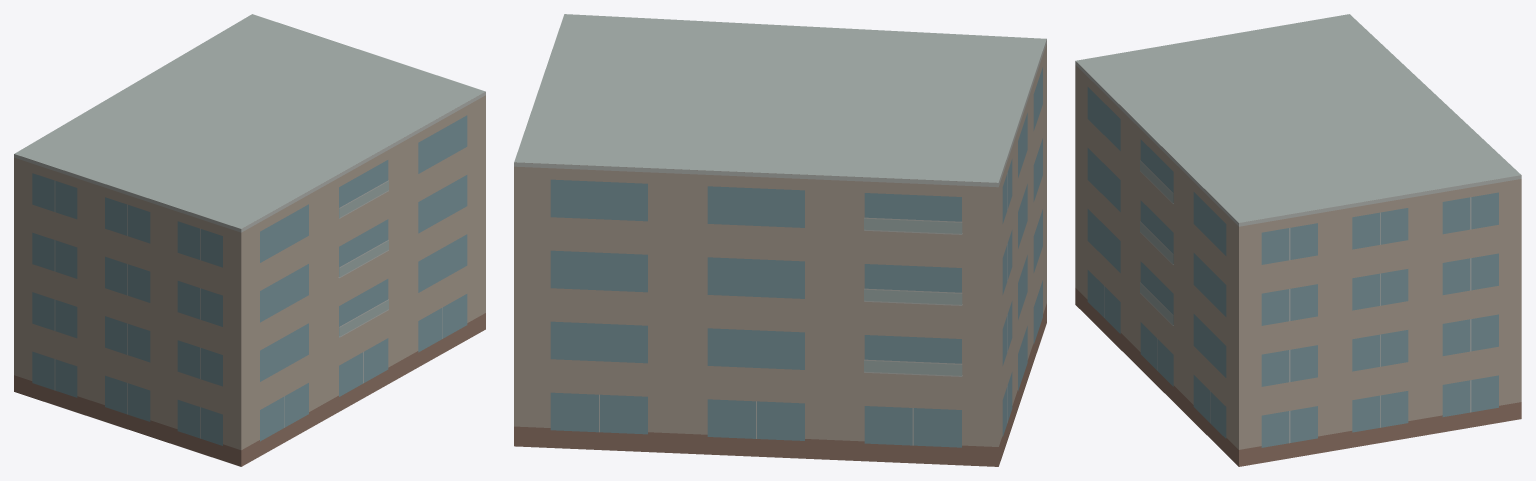
The model's file is survey-upis-32809141.glb.
The picture shows the model from 3 angles, left to right: view 1: azimuth 30°, elevation 25°; view 2: azimuth 150°, elevation 25°; view 3: azimuth 270°, elevation 25°; orthographic projection. The views are drawn at different scales.
Parts seen in each view (by area): view 1: survey-upis-32809141.tmp; view 2: survey-upis-32809141.tmp; view 3: survey-upis-32809141.tmp.
Boxes of the visible parts, x1=… form: survey-upis-32809141.tmp: x1=14, y1=14, x2=485, y2=466; survey-upis-32809141.tmp: x1=514, y1=14, x2=1046, y2=466; survey-upis-32809141.tmp: x1=1075, y1=14, x2=1521, y2=466.
Bounding box in the file's own units: 29.23 × 15.9 × 26.37.
